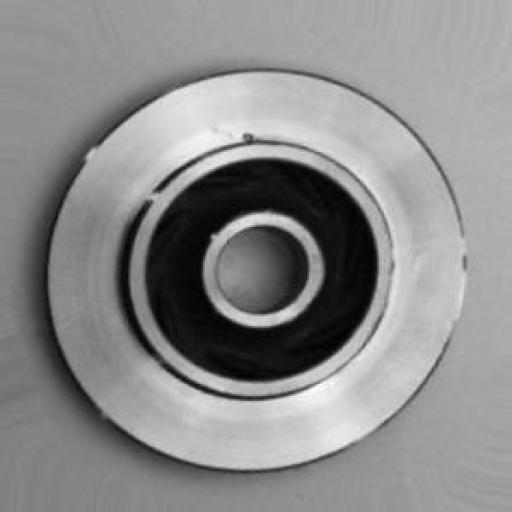defect: (207, 106, 289, 166)
